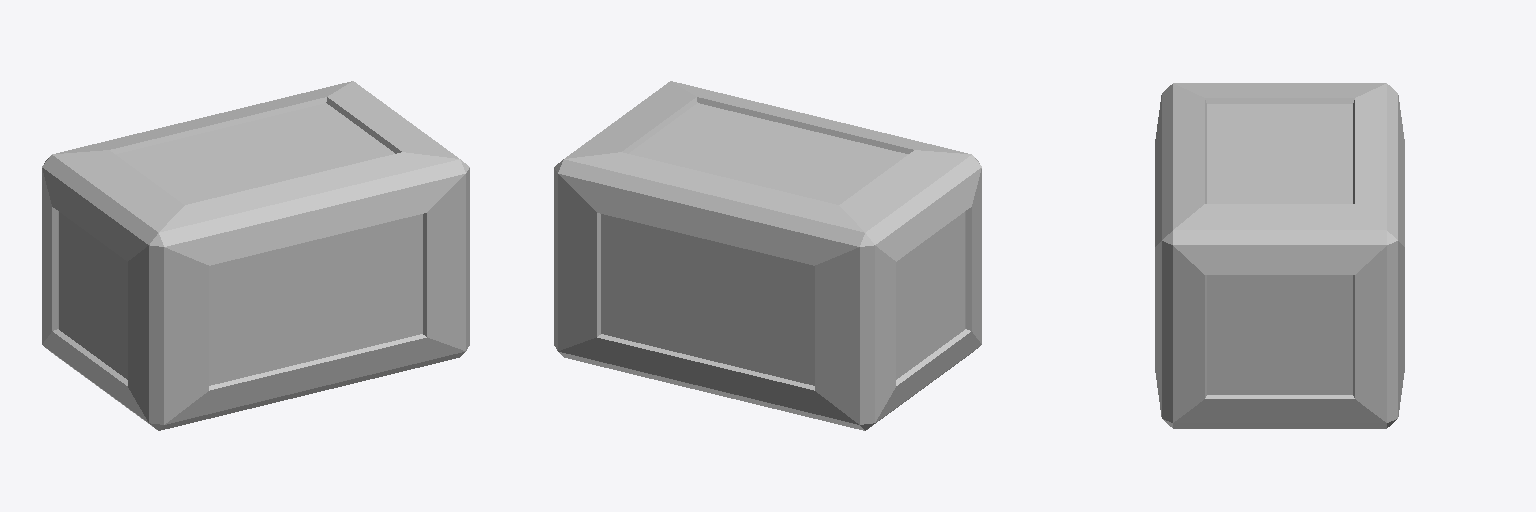
The model's file is crate.obj.
The picture shows the model from 3 angles: view 1: azimuth 30°, elevation 25°; view 2: azimuth 150°, elevation 25°; view 3: azimuth 270°, elevation 25°; orthographic projection.
Visible parts, largest first — view 1: Cube_Cube.001; view 2: Cube_Cube.001; view 3: Cube_Cube.001.
Part boxes in pixels (left/top/right/bottom): Cube_Cube.001: left=42, top=81, right=469, bottom=430; Cube_Cube.001: left=554, top=81, right=981, bottom=430; Cube_Cube.001: left=1155, top=83, right=1404, bottom=428.
Size of the model in its own units: 1.2 by 0.726 by 0.7816.